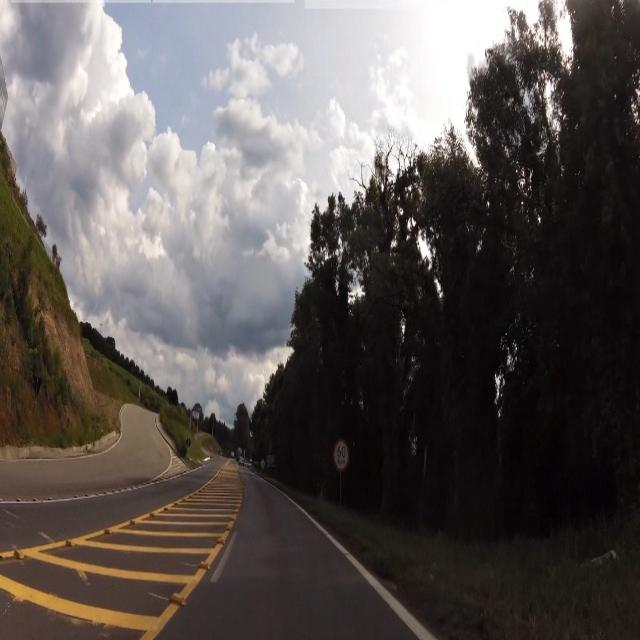R-7: (334, 432, 351, 476)
